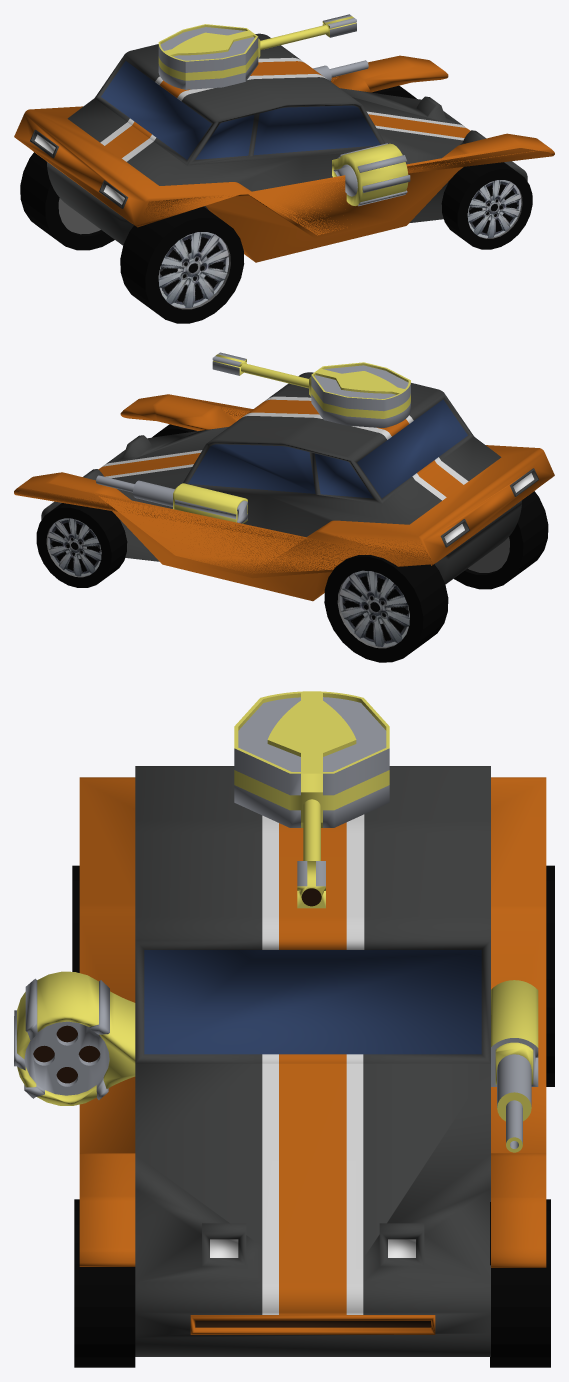
The model's file is Keyla.fbx.
The picture shows the model from 3 angles, top to bottom: view 1: azimuth 30°, elevation 25°; view 2: azimuth 150°, elevation 25°; view 3: azimuth 270°, elevation 25°; orthographic projection. The views are drawn at different scales.
Visible parts, largest first — view 1: Group3, skp7EDE2, skpC269_1, skp7EDE3, skp7EDE1, skpBB00_1, skp5516_1; view 2: Group3, skp7EDE1, skpC269_1, skp7EDE4, skp7EDE2, skp5516_1; view 3: Group3, skpC269_1, skpBB00_1, skp7EDE3, skp5516_1, skp7EDE4, skp7EDE1, skp7EDE2.
Part boxes in pixels (box(x1,y1,x2,y2)): Group3: box(14, 33, 554, 262); skp7EDE2: box(120, 206, 244, 323); skpC269_1: box(158, 14, 356, 89); skp7EDE3: box(441, 162, 532, 249); skp7EDE1: box(20, 152, 114, 250); skpBB00_1: box(332, 143, 410, 206); skp5516_1: box(313, 60, 368, 81); Group3: box(14, 372, 554, 601); skp7EDE1: box(324, 555, 448, 662); skpC269_1: box(212, 352, 410, 427); skp7EDE4: box(36, 503, 127, 587); skp7EDE2: box(454, 491, 548, 589); skp5516_1: box(96, 475, 247, 523); Group3: box(79, 766, 546, 1356); skpC269_1: box(234, 691, 389, 908); skpBB00_1: box(14, 971, 135, 1105); skp7EDE3: box(74, 1199, 135, 1367); skp5516_1: box(491, 980, 538, 1152); skp7EDE4: box(490, 1199, 550, 1367); skp7EDE1: box(546, 865, 554, 1086); skp7EDE2: box(72, 865, 79, 972).
Bounding box in the file's own units: 16.83 × 8.25 × 9.73.
